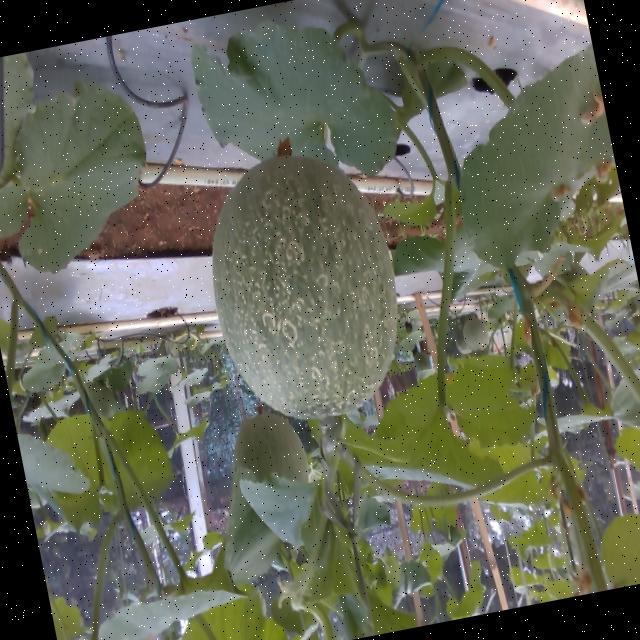melon: (210, 155, 395, 418)
